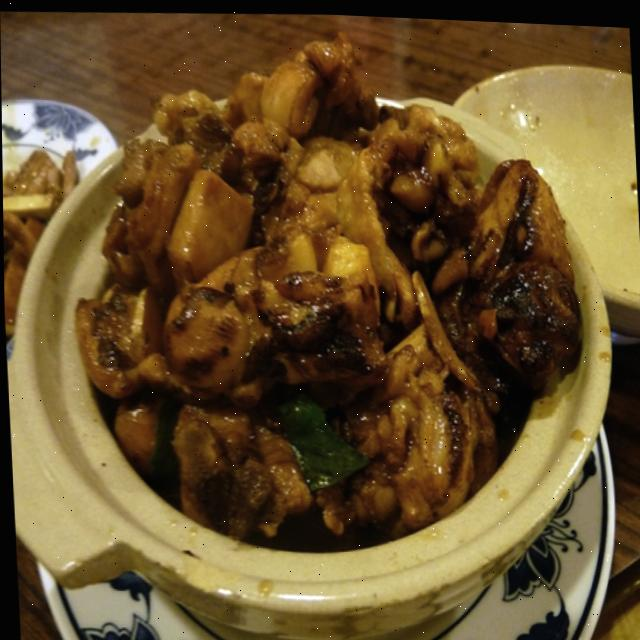鸡肉料理 含炸鸡: (21, 24, 594, 600)
